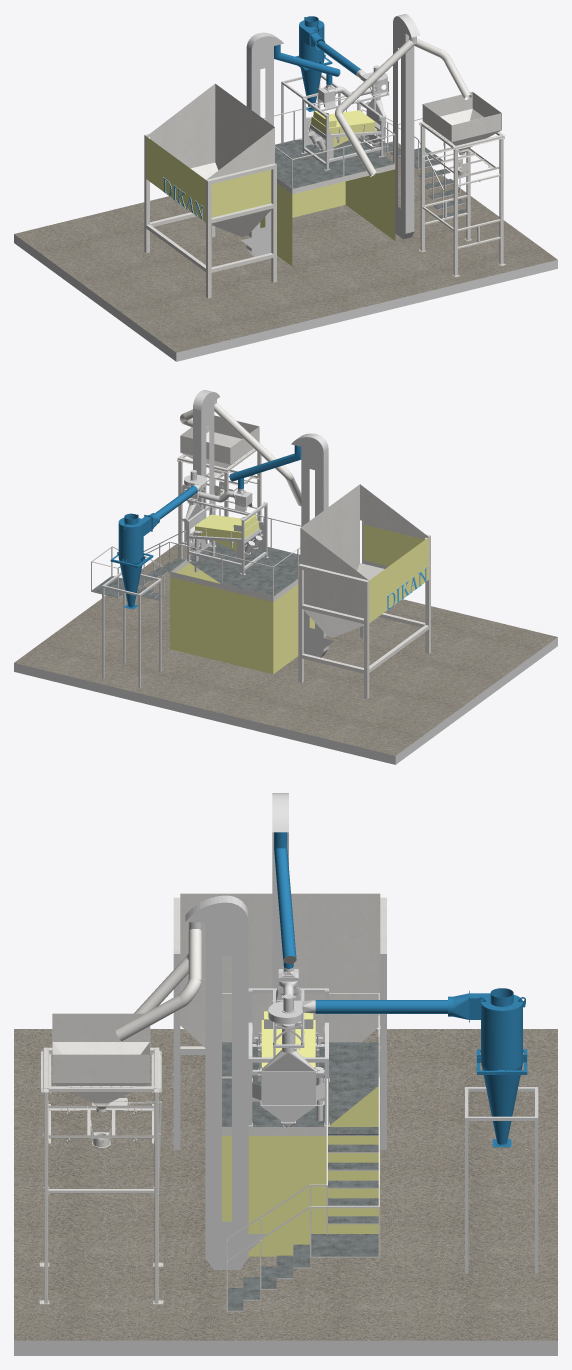
The model's file is project-malaya-ustanovka.glb.
3 views of the same model, one above another, from view 1: azimuth 30°, elevation 25°; view 2: azimuth 150°, elevation 25°; view 3: azimuth 270°, elevation 25° (orthographic). The views are drawn at different scales.
Visible parts, largest first — view 1: Geom3D (×3), Geom3D_Без имени.stl, Geom3D_JCC_08_C1P1A1_JVR_2402.stl, Geom3D_JVC_630+JVL.stl; view 2: Geom3D (×3), Geom3D_Без имени.stl, Geom3D_JCC_08_C1P1A1_JVR_2402.stl, Geom3D_JVC_630+JVL.stl; view 3: Geom3D (×3), Geom3D_JCC_08_C1P1A1_JVR_2402.stl, Geom3D_Без имени.stl, Geom3D_JVC_630+JVL.stl.
Boxes of the visible parts, bbox=[...] form: Geom3D (×3): bbox=[14, 110, 557, 352]; Geom3D_Без имени.stl: bbox=[144, 36, 505, 298]; Geom3D_JCC_08_C1P1A1_JVR_2402.stl: bbox=[14, 14, 557, 361]; Geom3D_JVC_630+JVL.stl: bbox=[274, 16, 361, 111]; Geom3D (×3): bbox=[14, 514, 557, 755]; Geom3D_Без имени.stl: bbox=[91, 399, 430, 698]; Geom3D_JCC_08_C1P1A1_JVR_2402.stl: bbox=[14, 390, 557, 764]; Geom3D_JVC_630+JVL.stl: bbox=[110, 445, 301, 609]; Geom3D (×3): bbox=[14, 1011, 557, 1340]; Geom3D_JCC_08_C1P1A1_JVR_2402.stl: bbox=[14, 793, 557, 1355]; Geom3D_Без имени.stl: bbox=[39, 893, 386, 1311]; Geom3D_JVC_630+JVL.stl: bbox=[274, 832, 527, 1147].
Bounding box in the file's own units: 11.08 × 6.34 × 8.17.
6 materials, 3 textured.
